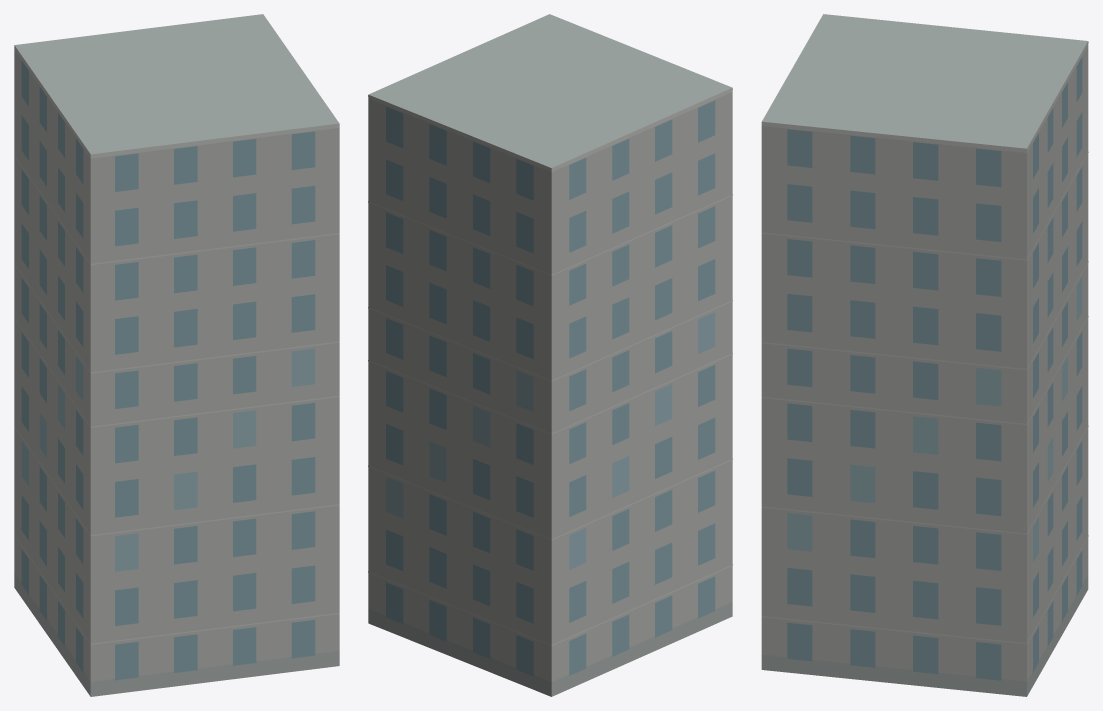
File: residential-972624a2-2020-4f9c-9a9b-79d234aa96aa.glb
3 views of the same model, side by side, from view 1: azimuth 30°, elevation 25°; view 2: azimuth 150°, elevation 25°; view 3: azimuth 270°, elevation 25° (orthographic). The views are drawn at different scales.
Parts seen in each view (by area): view 1: residential-972624a2-2020-4f9c-9a9b-79d234aa96aa.tmp; view 2: residential-972624a2-2020-4f9c-9a9b-79d234aa96aa.tmp; view 3: residential-972624a2-2020-4f9c-9a9b-79d234aa96aa.tmp.
Boxes of the visible parts, x1,y1,x2,y2 form: residential-972624a2-2020-4f9c-9a9b-79d234aa96aa.tmp: [14, 14, 339, 696]; residential-972624a2-2020-4f9c-9a9b-79d234aa96aa.tmp: [368, 14, 732, 696]; residential-972624a2-2020-4f9c-9a9b-79d234aa96aa.tmp: [761, 14, 1088, 696].
Size of the model in its own units: 16.1 by 30.5 by 16.49.
